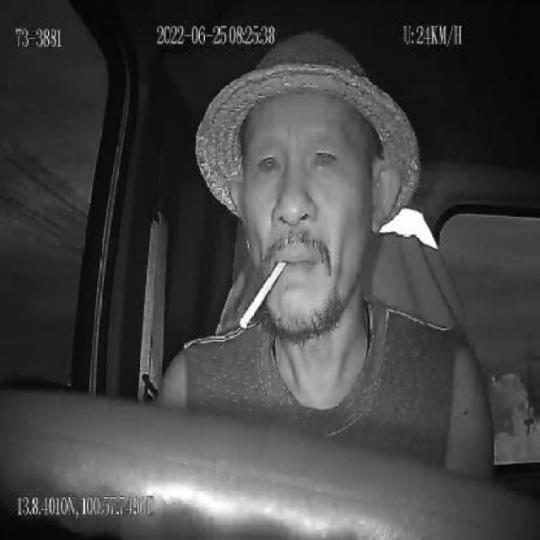smoking: (240, 262, 287, 329)
